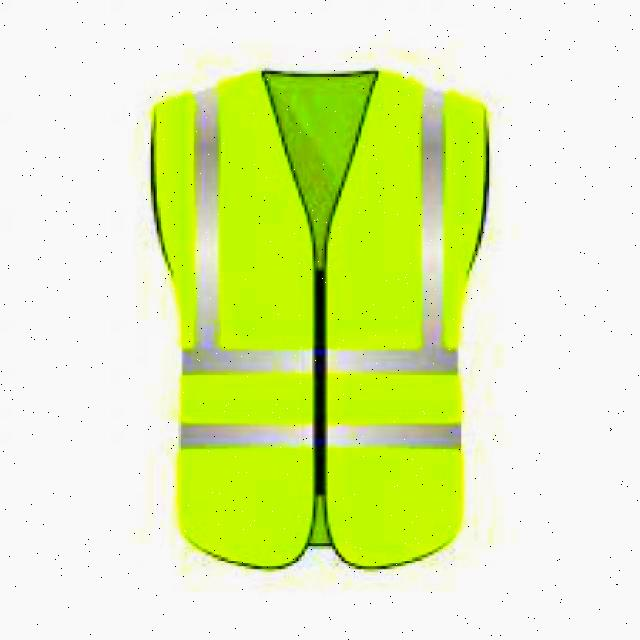Mask: (145, 68, 472, 564)
